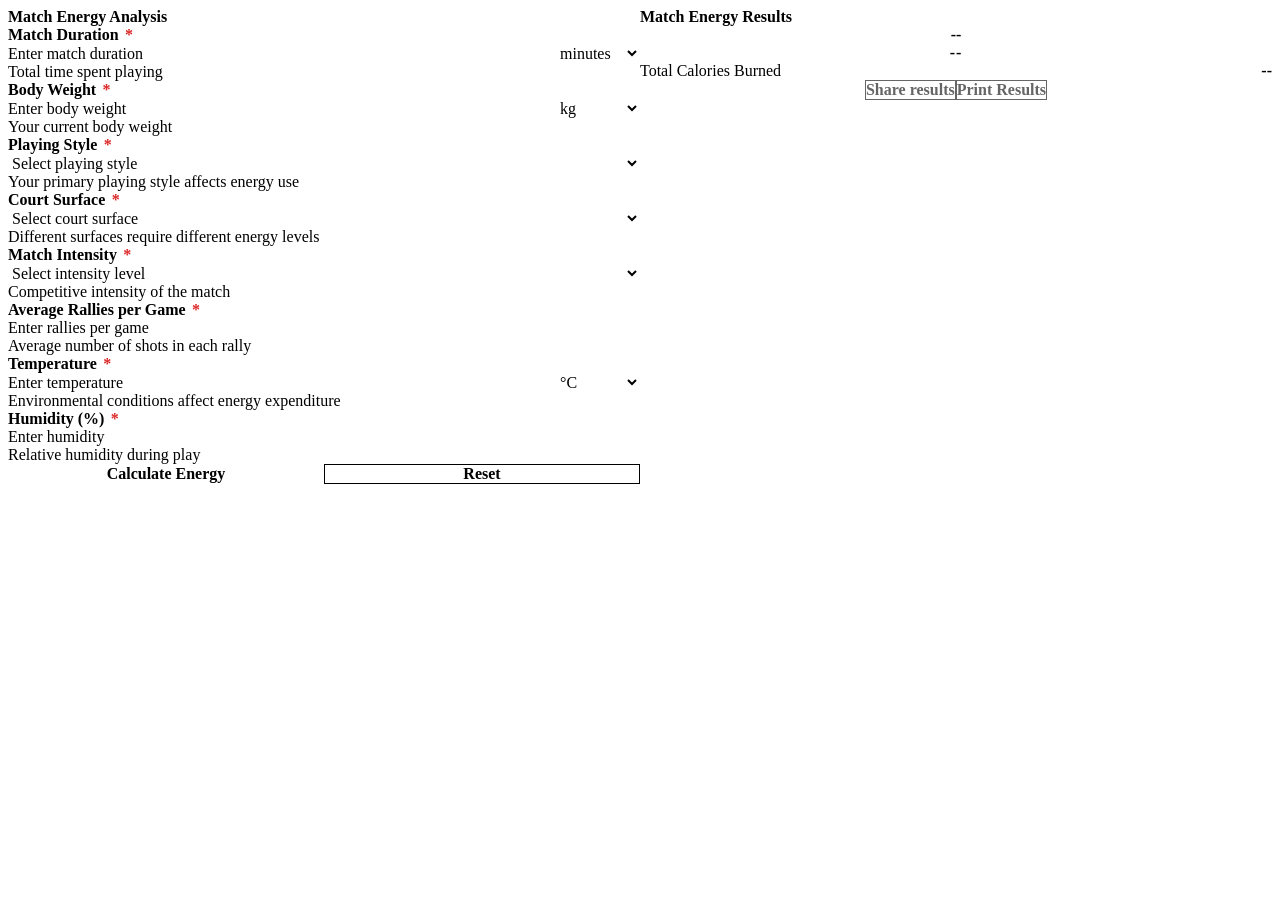
Test: TennisMatchEnergyCalculator › validates with the source messages before calculating
What coordinates should you click on to do the following:
click the button "Calculate Energy"
I would click on:
 (166, 474)
Its box is [8,464,324,484].
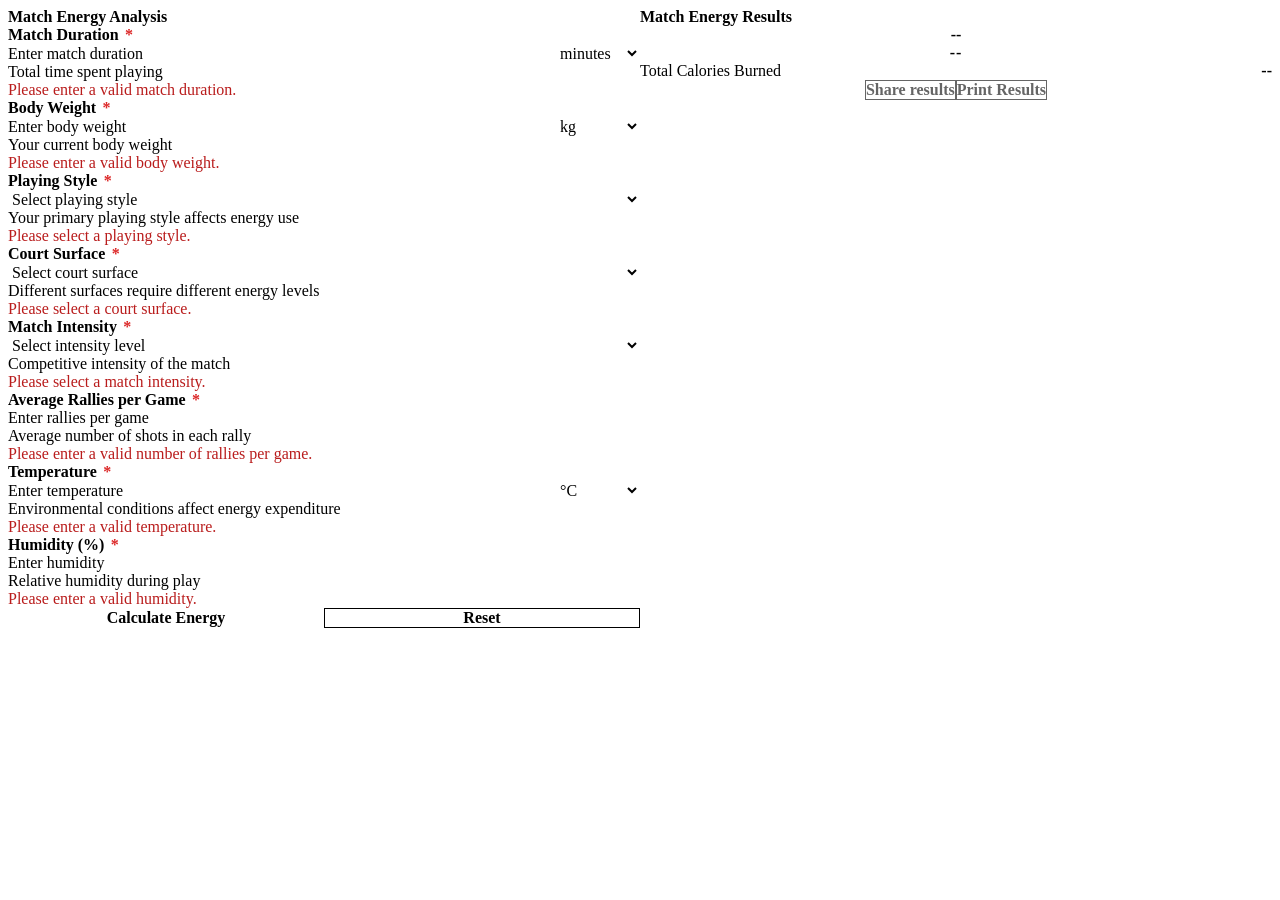
Expected: the text "Please enter a valid match duration." is shown, [8,81,236,98]
Expected: the text "Please enter a valid body weight." is shown, [8,154,220,171]
Expected: the text "Please select a playing style." is shown, [8,227,191,244]
